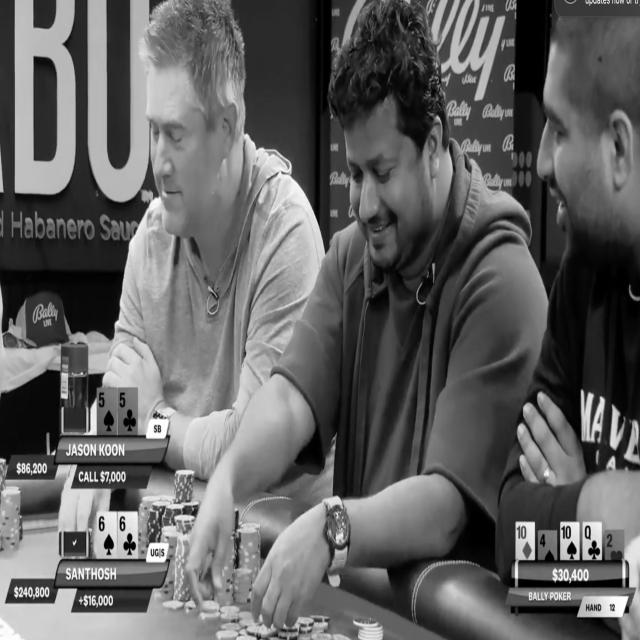10D: (516, 522, 535, 561)
10S: (561, 524, 579, 560)
2H: (606, 530, 625, 561)
4S: (539, 530, 557, 561)
5C: (118, 387, 138, 436)
5S: (97, 389, 117, 435)
6C: (118, 512, 138, 559)
6S: (97, 513, 116, 559)
QC: (583, 522, 601, 561)
